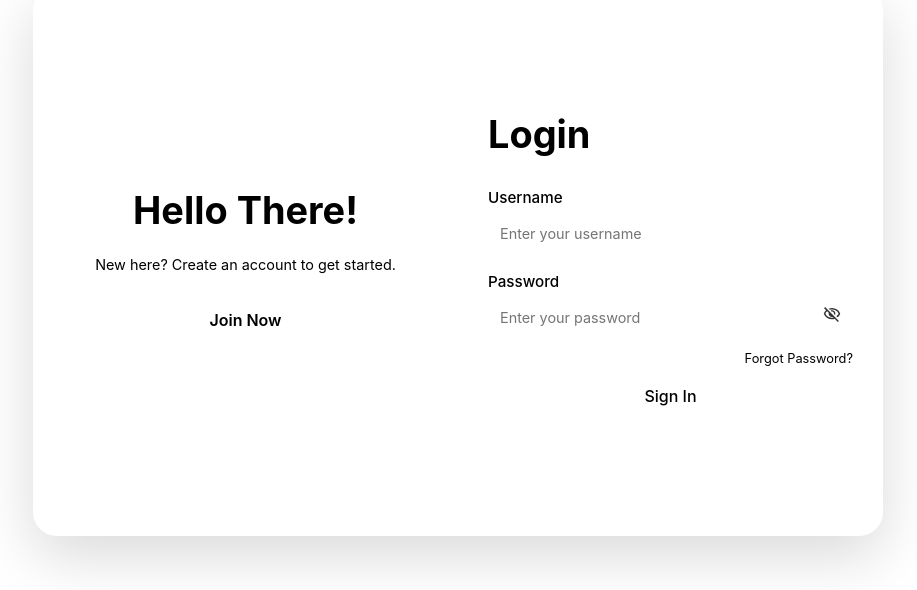
Test: AccessComponent › Login › should show an error message on invalid credential logins
Type "johndoe" into the field labelled "Username".
click(670, 233); type("johndoe")  # box [488,215,853,252]
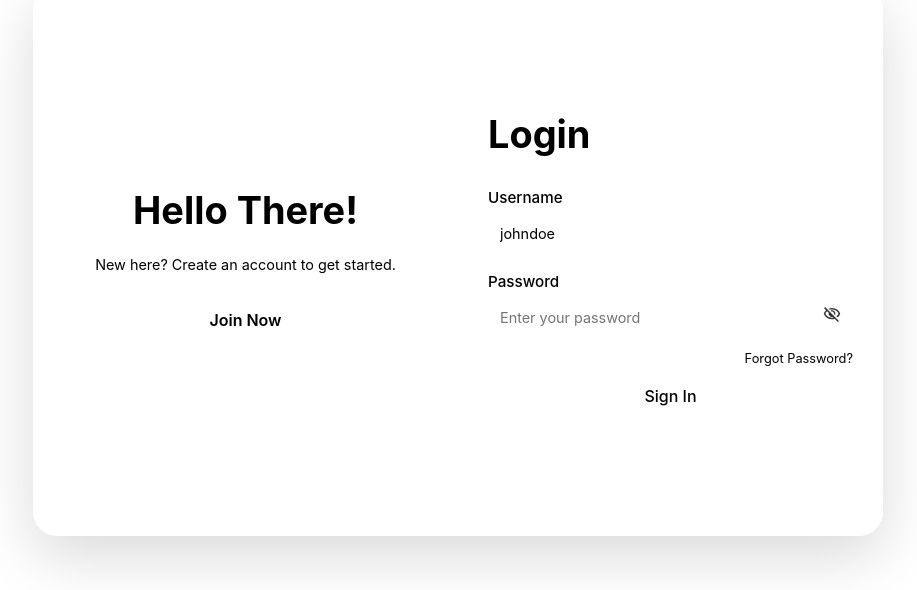
Type "j123456!" into the password field labelled "Password".
click(670, 317); type("j123456!")  # box [488,299,853,336]
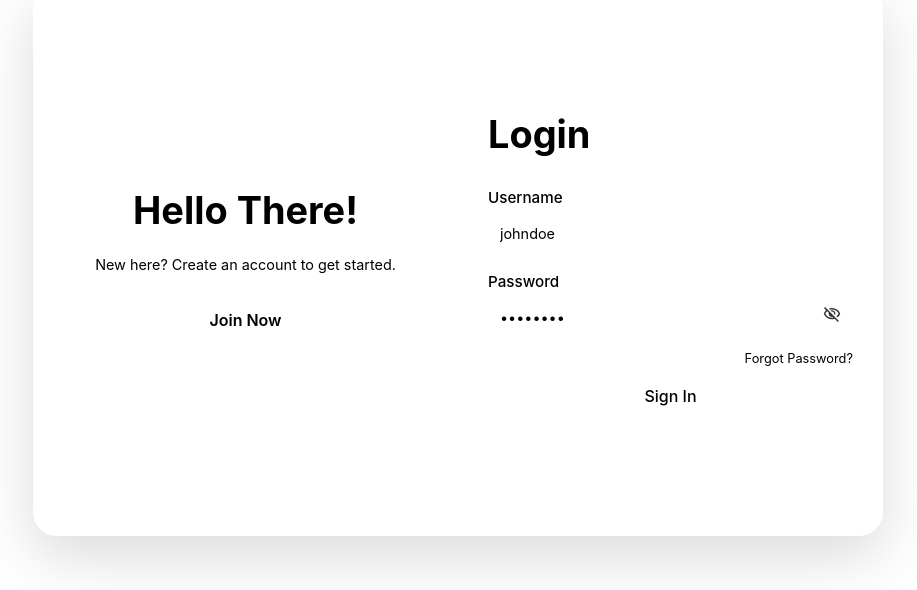
Click the button "Sign In".
click(670, 396)  # box [622,376,719,416]
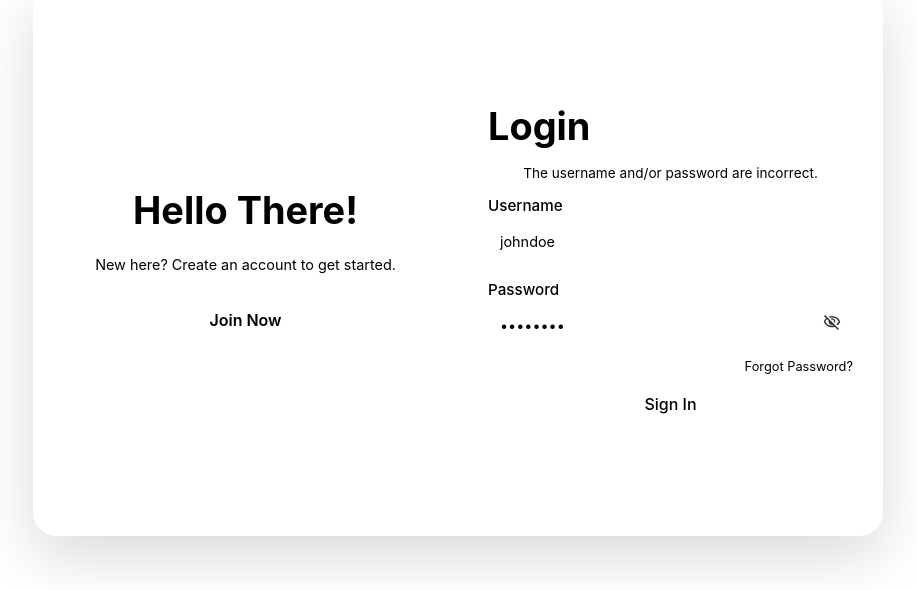
Now the text "The username and/or password are incorrect." is shown, box [523,165,818,181]
Now the text with class "general" reads "The username and/or password are incorrect.", box [523,165,818,181]
